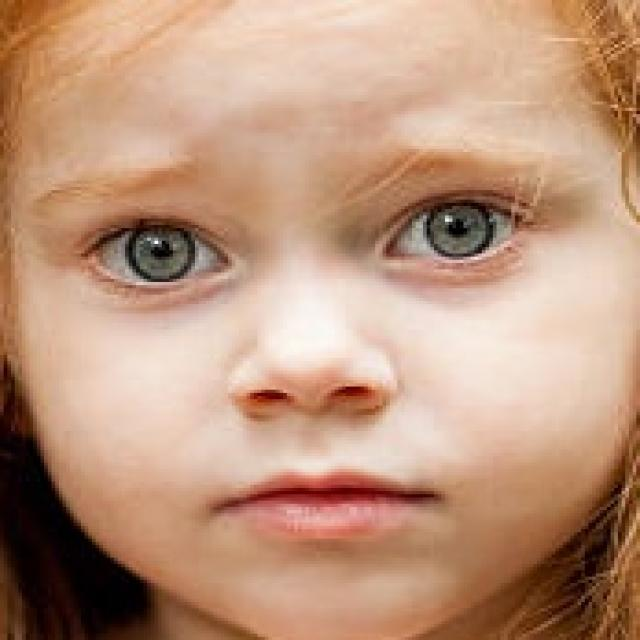Anxiety: (15, 0, 636, 637)
